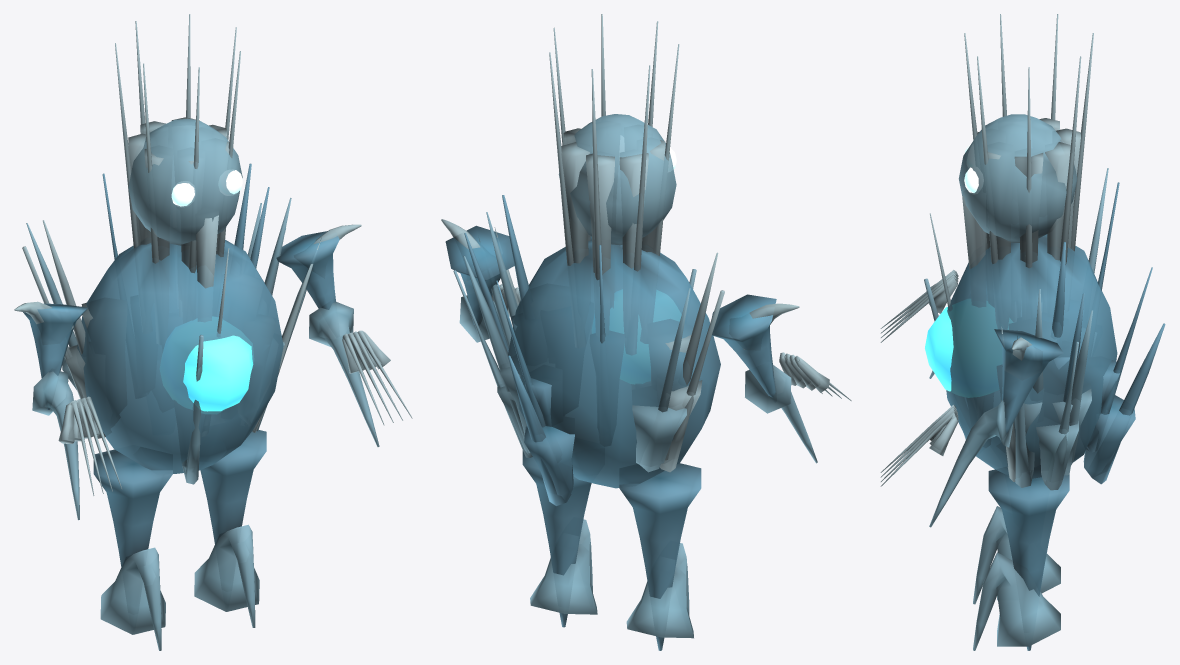
3 views of the same model, side by side, from view 1: azimuth 30°, elevation 25°; view 2: azimuth 150°, elevation 25°; view 3: azimuth 270°, elevation 25° (orthographic). The views are drawn at different scales.
Parts seen in each view (by area): view 1: torso, head, legR, legL, armL, armR; view 2: torso, head, legR, armR, legL, armL; view 3: torso, head, legL, armL, legR, armR.
Boxes of the visible parts, x1,y1,x2,y2 form: torso: [22, 163, 321, 484]; head: [115, 14, 242, 333]; legR: [93, 449, 172, 650]; legL: [194, 430, 266, 627]; armL: [276, 224, 412, 446]; armR: [14, 301, 121, 520]; torso: [453, 195, 724, 505]; head: [549, 14, 679, 280]; legR: [619, 463, 701, 650]; armR: [712, 294, 851, 463]; legL: [522, 450, 597, 627]; armL: [441, 219, 520, 342]; torso: [924, 168, 1165, 490]; head: [930, 14, 1093, 307]; legL: [973, 469, 1069, 650]; armL: [880, 329, 1063, 527]; legR: [973, 506, 1060, 604]; armR: [880, 270, 958, 378].
Bounding box in the file's own units: 0.7411 × 1.18 × 0.5187.
